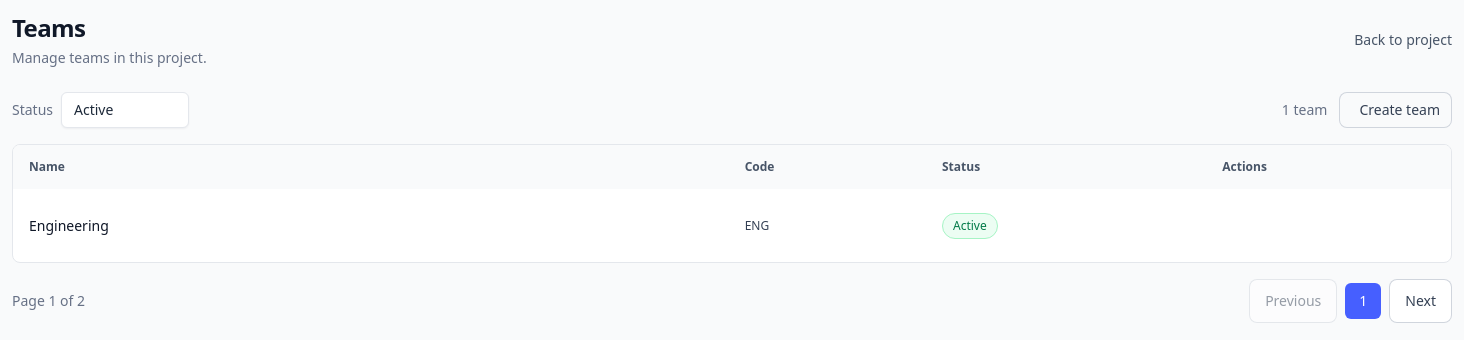
Test case: uses the current directory page read to gate management
The image size is (1464, 340).
Check: the button "Create team" is shown, box [1339,92,1452,128]
What coordinates should you click on to do the following:
click the button "Next"
I would click on:
 (1421, 301)
Its box is [1389,279,1452,323].
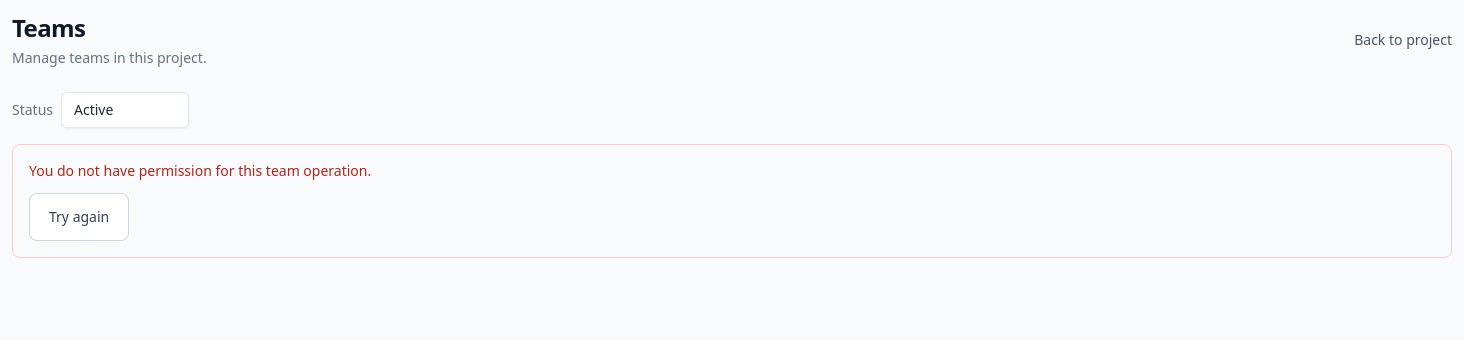
Check: the message "You do not have permission for this team operation. Try again" is shown, box [12,144,1452,258]
Check: the button "Create team" is gone
